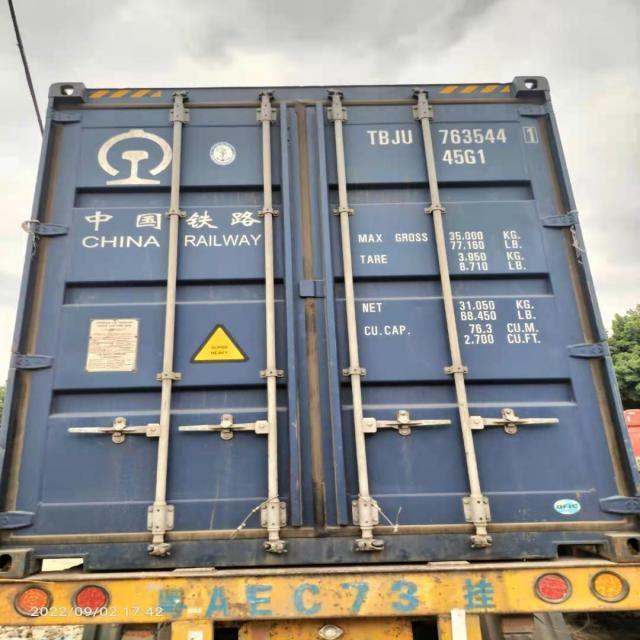ISO: (444, 150, 486, 167)
container_number: (362, 121, 543, 148)
